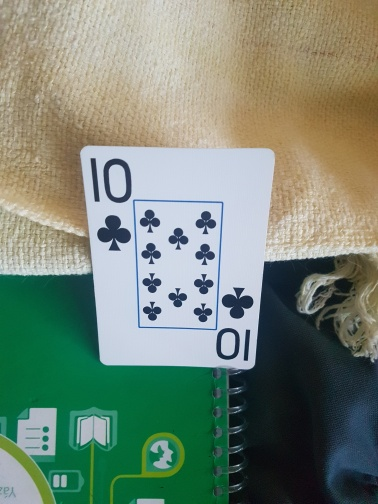ten: (80, 145, 277, 372)
